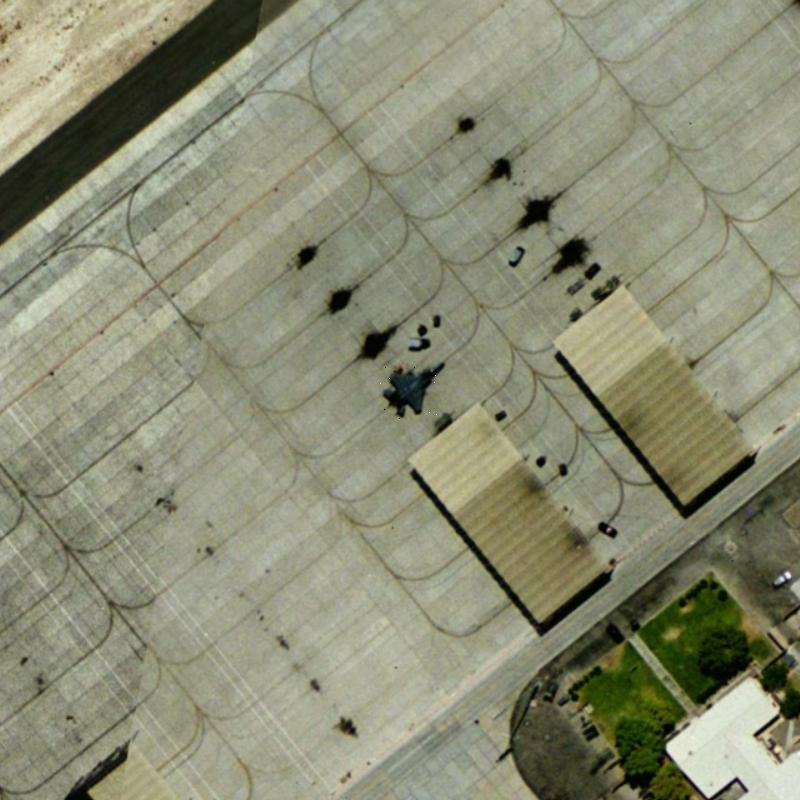A13: (380, 353, 447, 419)
